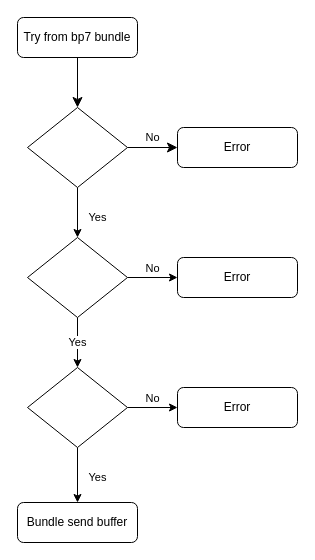
Some shapes in this 315 by 560 pixel diagram are drawn without their labels. Each missing label, with the box of its shape:
Can convert bundle timestamp to unix timestamp?: (26, 366, 128, 448)
Can convert EndpointID to EndDeviceID?: (26, 236, 128, 318)
Has payload block?: (26, 106, 128, 188)
